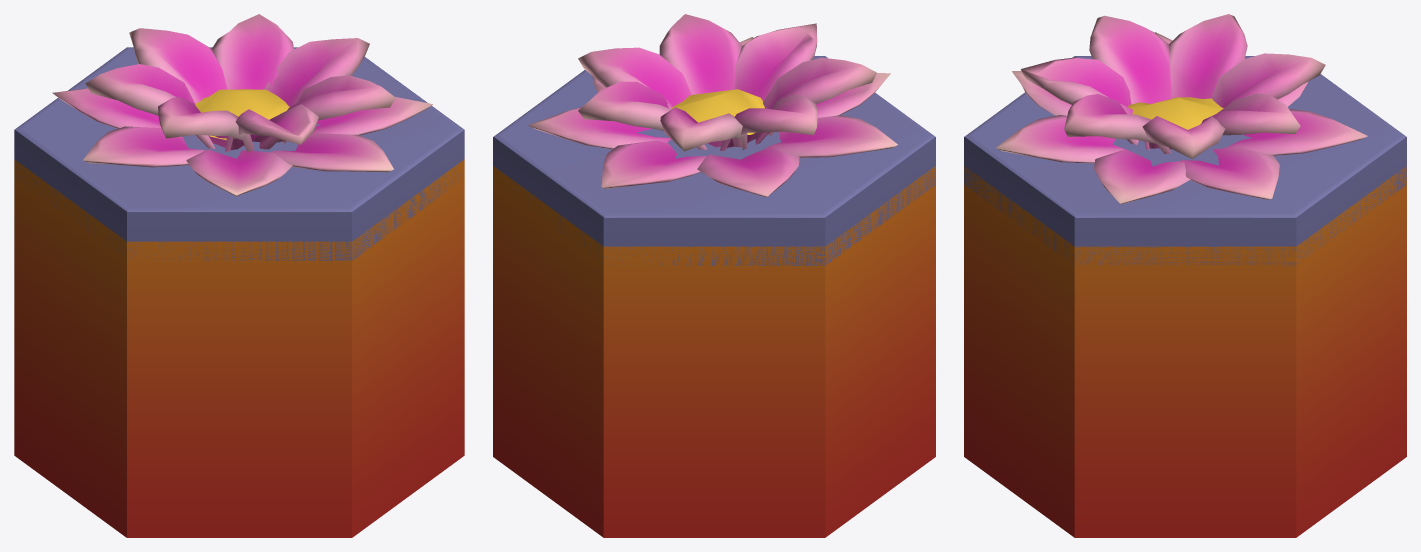
Rendered from flower_center.fbx.
3 views of the same model, side by side, from view 1: azimuth 30°, elevation 25°; view 2: azimuth 150°, elevation 25°; view 3: azimuth 270°, elevation 25° (orthographic).
Parts seen in each view (by area): view 1: land1_normal2, hoa_cactus7, land1_normal3; view 2: land1_normal2, hoa_cactus7, land1_normal3; view 3: land1_normal2, hoa_cactus7, land1_normal3.
Boxes of the visible parts, box(x1,y1,x2,y2) form: land1_normal2: box(14, 159, 464, 537); hoa_cactus7: box(52, 14, 432, 196); land1_normal3: box(14, 47, 464, 260); land1_normal2: box(493, 166, 935, 537); hoa_cactus7: box(528, 14, 897, 197); land1_normal3: box(493, 56, 935, 265); land1_normal2: box(964, 166, 1406, 537); hoa_cactus7: box(996, 14, 1367, 204); land1_normal3: box(964, 56, 1406, 265).
Size of the model in its own units: 3.69 by 4.1 by 4.23.
